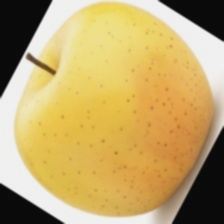apple: (30, 45, 224, 202)
